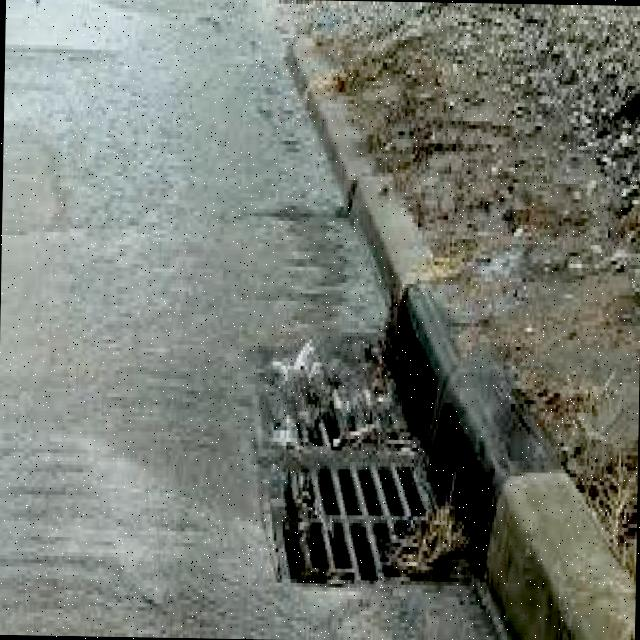curb: (379, 293, 640, 636), (271, 35, 436, 285)
